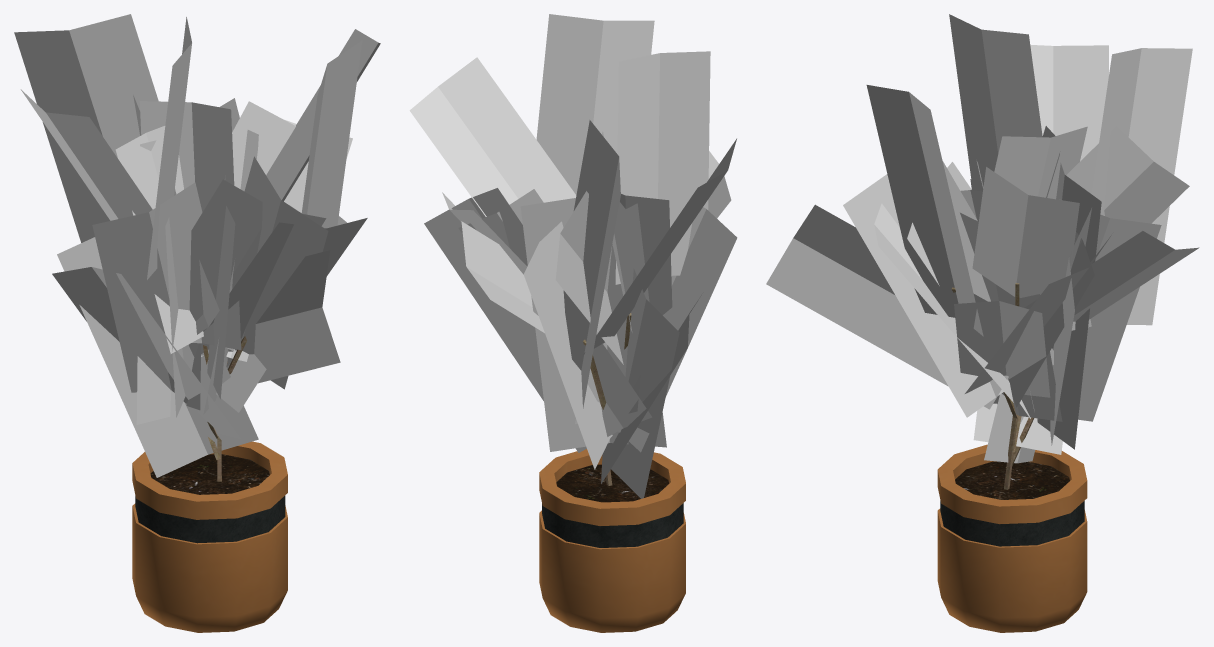
Rendered from Plants_Pots_3.fbx.
The picture shows the model from 3 angles, left to right: view 1: azimuth 30°, elevation 25°; view 2: azimuth 150°, elevation 25°; view 3: azimuth 270°, elevation 25°; orthographic projection. The views are drawn at different scales.
Parts seen in each view (by area): view 1: Cylinder.020; view 2: Cylinder.020; view 3: Cylinder.020.
Boxes of the visible parts, x1,y1,x2,y2 form: Cylinder.020: [14, 14, 380, 632]; Cylinder.020: [409, 14, 737, 632]; Cylinder.020: [766, 14, 1199, 632].
Bounding box in the file's own units: 129 × 227 × 156.
